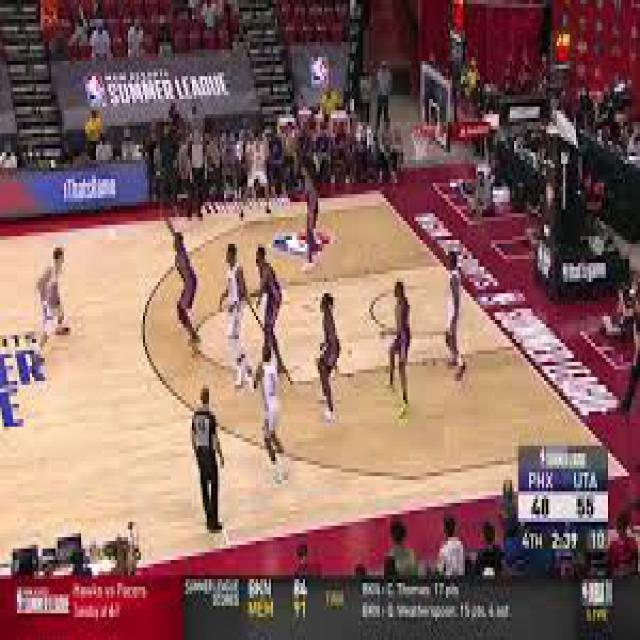basketball: (47, 290, 60, 308)
rim: (412, 122, 431, 141)
